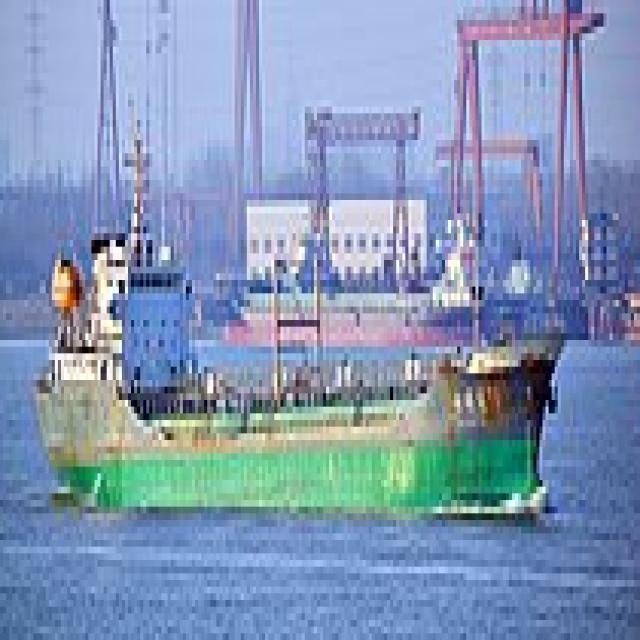Tanker: (30, 94, 558, 514)
